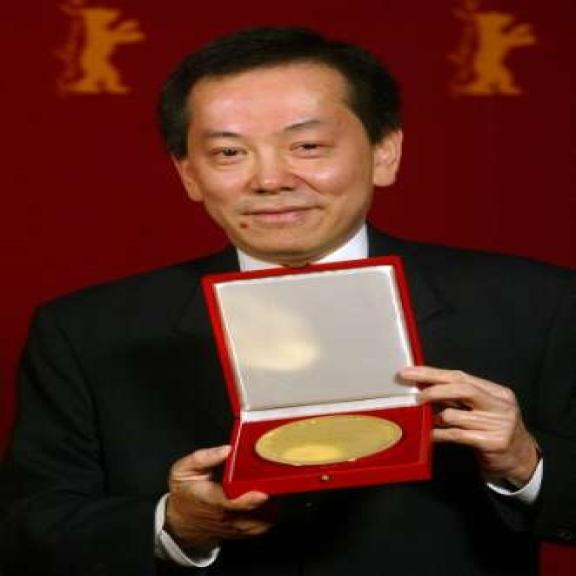face: (160, 72, 410, 258)
